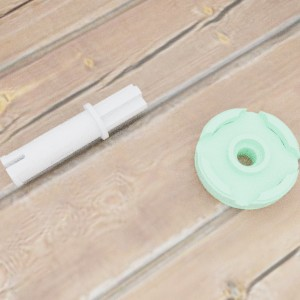lego: (0, 83, 147, 186), (194, 108, 300, 209)
